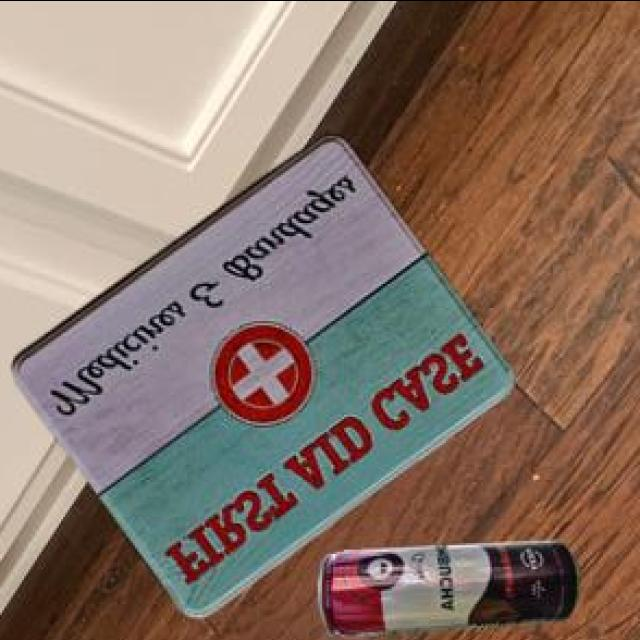logam: (10, 130, 510, 613), (315, 537, 578, 635)
